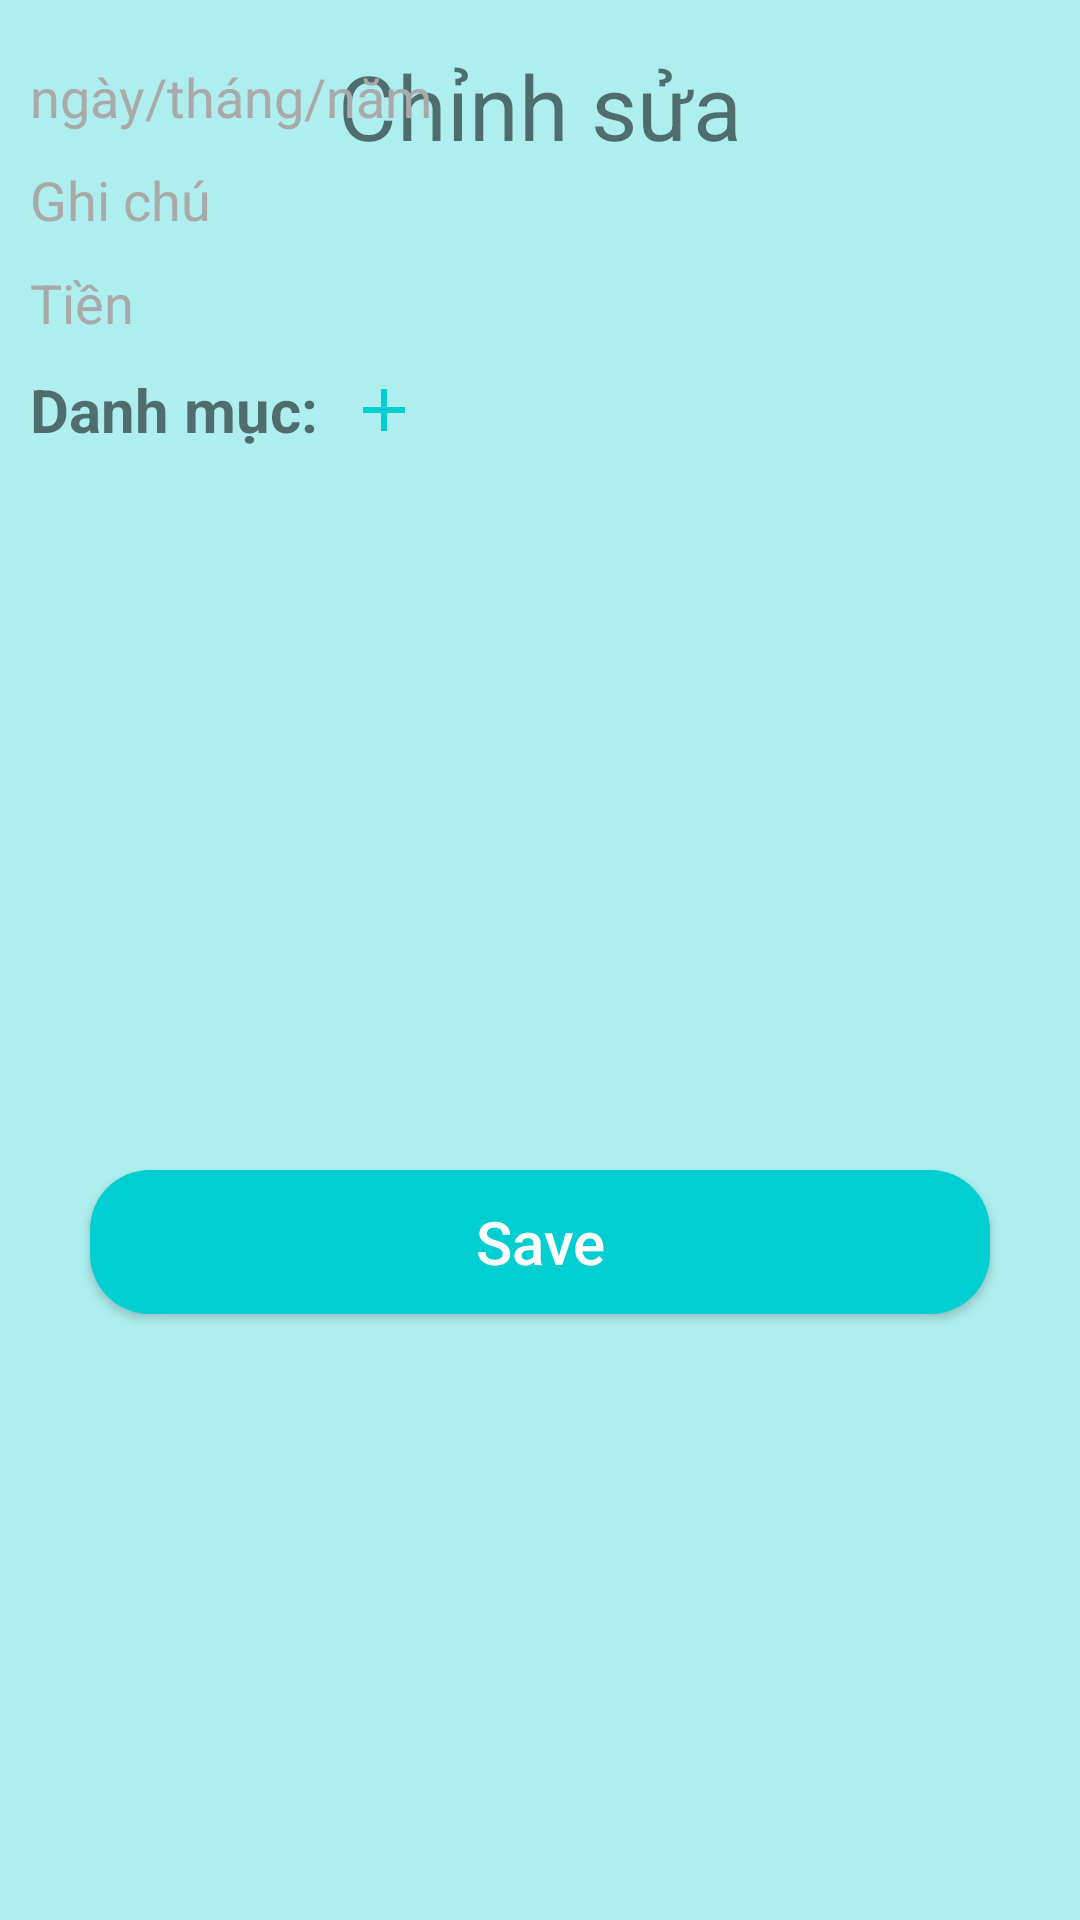

Screen size 1080×1920. Icon name, then its box in pixels as (x1, y1, x2, y2):
add: (363, 389, 405, 431)
